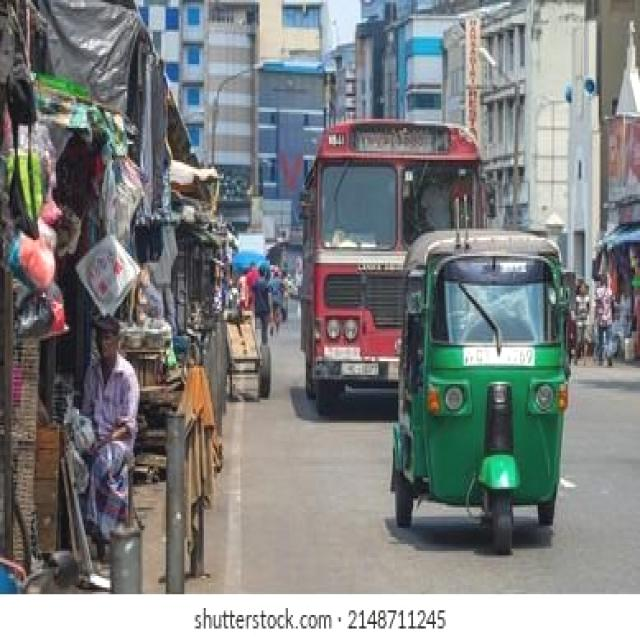Bus: (294, 114, 497, 420)
